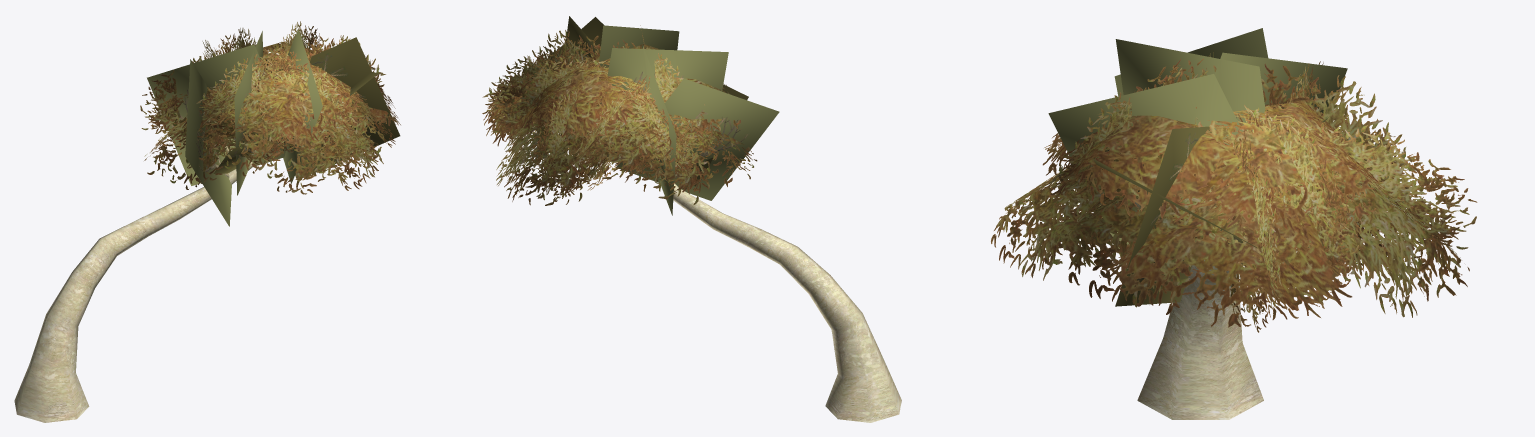
Rendered from decd_windswept_a4_l0.fbx.
3 views of the same model, side by side, from view 1: azimuth 30°, elevation 25°; view 2: azimuth 150°, elevation 25°; view 3: azimuth 270°, elevation 25° (orthographic). The views are drawn at different scales.
Parts seen in each view (by area): view 1: mesh_node; view 2: mesh_node; view 3: mesh_node.
Boxes of the visible parts, x1,y1,x2,y2 form: mesh_node: [14, 21, 400, 422]; mesh_node: [482, 16, 901, 422]; mesh_node: [991, 28, 1477, 419].
Bounding box in the file's own units: 8.26 × 6.35 × 6.1.
